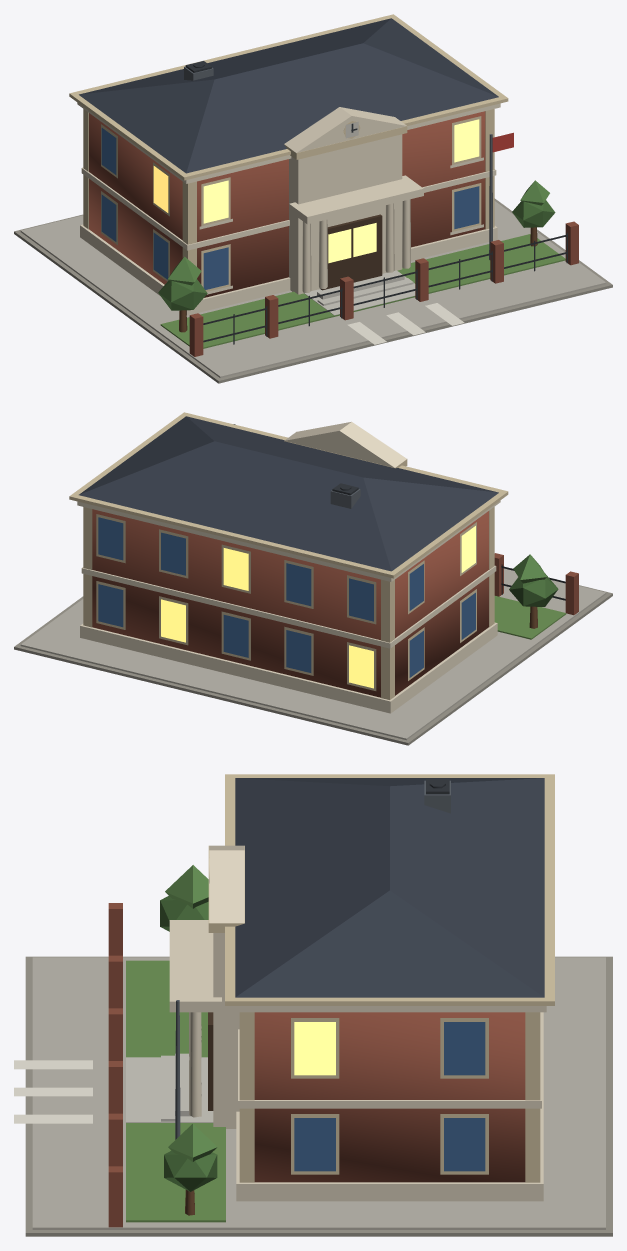
File: willowbrook-school.glb
The picture shows the model from 3 angles, top to bottom: view 1: azimuth 30°, elevation 25°; view 2: azimuth 150°, elevation 25°; view 3: azimuth 270°, elevation 25°; orthographic projection. The views are drawn at different scales.
Visible parts, largest first — view 1: Merged_school-slate, Merged_school-brick, Merged_school-stone, Merged_city-paving, Merged_school-stone-shade, Merged_city-lawn, Merged_city-lit-glass-surface, Merged_city-curb, Merged_city-glass-surface, Merged_school-door-timber, Merged_city-railing, Merged_city-paving-light (+4 smaller); view 2: Merged_school-slate, Merged_school-brick, Merged_city-paving, Merged_school-stone, Merged_school-stone-shade, Merged_city-glass-surface, Merged_city-curb, Merged_city-lit-glass-surface, Merged_city-lawn, Merged_city-foliage-deep, Merged_city-foliage; view 3: Merged_school-slate, Merged_city-paving, Merged_school-brick, Merged_school-stone, Merged_school-stone-shade, Merged_city-lawn, Merged_city-curb, Merged_city-glass-surface, Merged_city-paving-light, Merged_city-foliage-deep, Merged_city-lane-marking-surface, Merged_city-lit-glass-surface (+2 smaller).
Boxes of the visible parts, bbox=[...] form: Merged_school-slate: bbox=[79, 18, 498, 173]; Merged_school-brick: bbox=[89, 111, 578, 356]; Merged_school-stone: bbox=[77, 102, 500, 315]; Merged_city-paving: bbox=[20, 201, 606, 378]; Merged_school-stone-shade: bbox=[69, 14, 508, 291]; Merged_city-lawn: bbox=[160, 234, 565, 348]; Merged_city-lit-glass-surface: bbox=[153, 119, 479, 263]; Merged_city-curb: bbox=[14, 198, 612, 383]; Merged_city-glass-surface: bbox=[101, 128, 479, 289]; Merged_school-door-timber: bbox=[320, 214, 382, 290]; Merged_city-railing: bbox=[203, 232, 567, 344]; Merged_city-paving-light: bbox=[304, 270, 415, 315]; Merged_school-slate: bbox=[79, 416, 498, 571]; Merged_school-brick: bbox=[92, 509, 578, 697]; Merged_city-paving: bbox=[20, 568, 606, 740]; Merged_school-stone: bbox=[77, 421, 500, 713]; Merged_school-stone-shade: bbox=[69, 412, 508, 699]; Merged_city-glass-surface: bbox=[98, 517, 475, 677]; Merged_city-curb: bbox=[14, 585, 612, 745]; Merged_city-lit-glass-surface: bbox=[161, 526, 475, 688]; Merged_city-lawn: bbox=[494, 596, 566, 639]; Merged_city-foliage-deep: bbox=[509, 573, 558, 606]; Merged_city-foliage: bbox=[513, 554, 546, 583]; Merged_school-slate: bbox=[235, 778, 544, 997]; Merged_city-paving: bbox=[32, 957, 605, 1229]; Merged_school-brick: bbox=[108, 903, 525, 1227]; Merged_school-stone: bbox=[169, 845, 546, 1201]; Merged_school-stone-shade: bbox=[208, 774, 554, 1182]; Merged_city-lawn: bbox=[126, 960, 225, 1222]; Merged_city-curb: bbox=[25, 956, 612, 1236]; Merged_city-glass-surface: bbox=[294, 1022, 485, 1171]; Merged_city-paving-light: bbox=[126, 1053, 213, 1122]; Merged_city-foliage-deep: bbox=[160, 896, 217, 1191]; Merged_city-lane-marking-surface: bbox=[14, 1060, 92, 1123]; Merged_city-lit-glass-surface: bbox=[294, 1022, 335, 1075].
Size of what is drawn, in the model's own units: 11.33 by 5.04 by 10.38.
